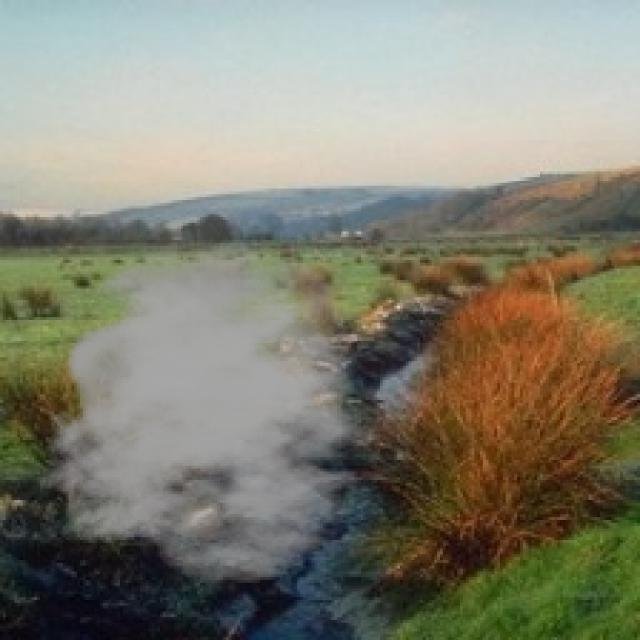Smoke: (34, 240, 400, 586)
